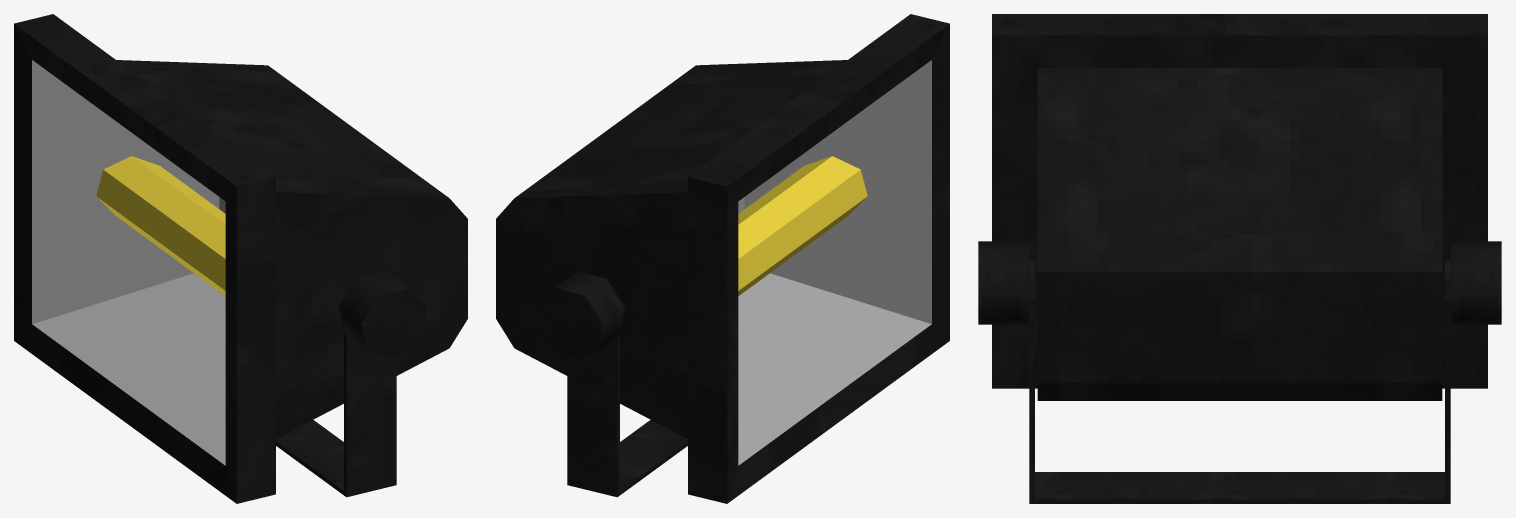
The model's file is big_halogen.glb.
The picture shows the model from 3 angles, left to right: view 1: azimuth 30°, elevation 25°; view 2: azimuth 150°, elevation 25°; view 3: azimuth 270°, elevation 25°; orthographic projection. The views are drawn at different scales.
Parts seen in each view (by area): view 1: Halogen, HalogenStand; view 2: Halogen, HalogenStand; view 3: Halogen, HalogenStand.
Part boxes in pixels (x1,y1,x2,y2): Halogen: (14,14,467,503); HalogenStand: (276,271,427,497); Halogen: (496,14,949,503); HalogenStand: (536,271,687,497); Halogen: (992,14,1487,400); HalogenStand: (978,241,1501,503).
Bounding box in the file's own units: 0.2108 × 0.2832 × 0.3407.
Materials: 3 (1 with a texture image).
